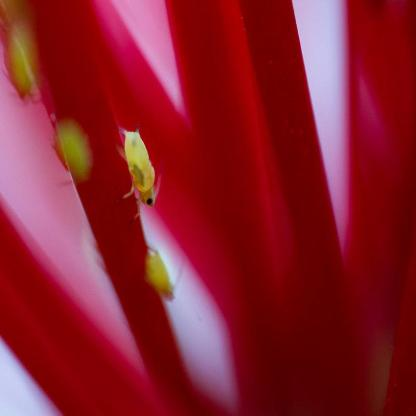aphid: (113, 118, 171, 220), (54, 114, 94, 188), (143, 242, 181, 300)
